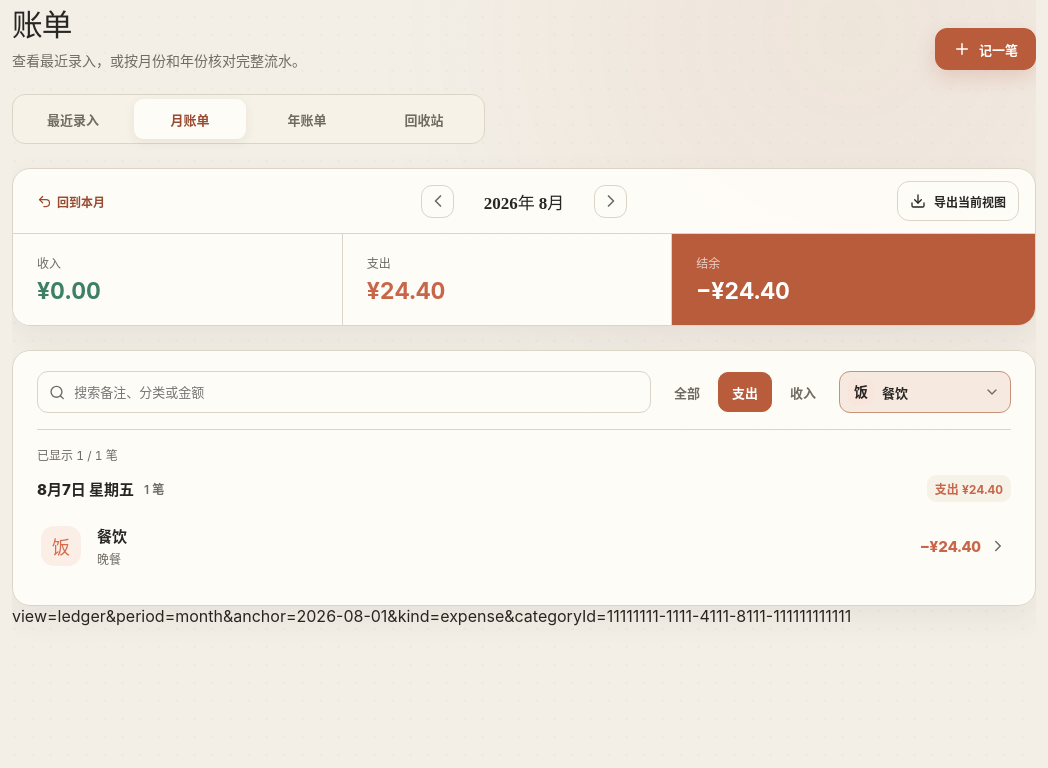
洞察与账单下钻 › 从账单 URL 初始化筛选，并在切换筛选时同步 URL
Expected: the heading "账单" is shown, x1=12 y1=9 x2=71 y2=43
What coordinates should you click on to do the following:
click the dropdown named "筛选分类"
I would click on:
 (925, 392)
Its box is x1=839 y1=371 x2=1011 y2=413.
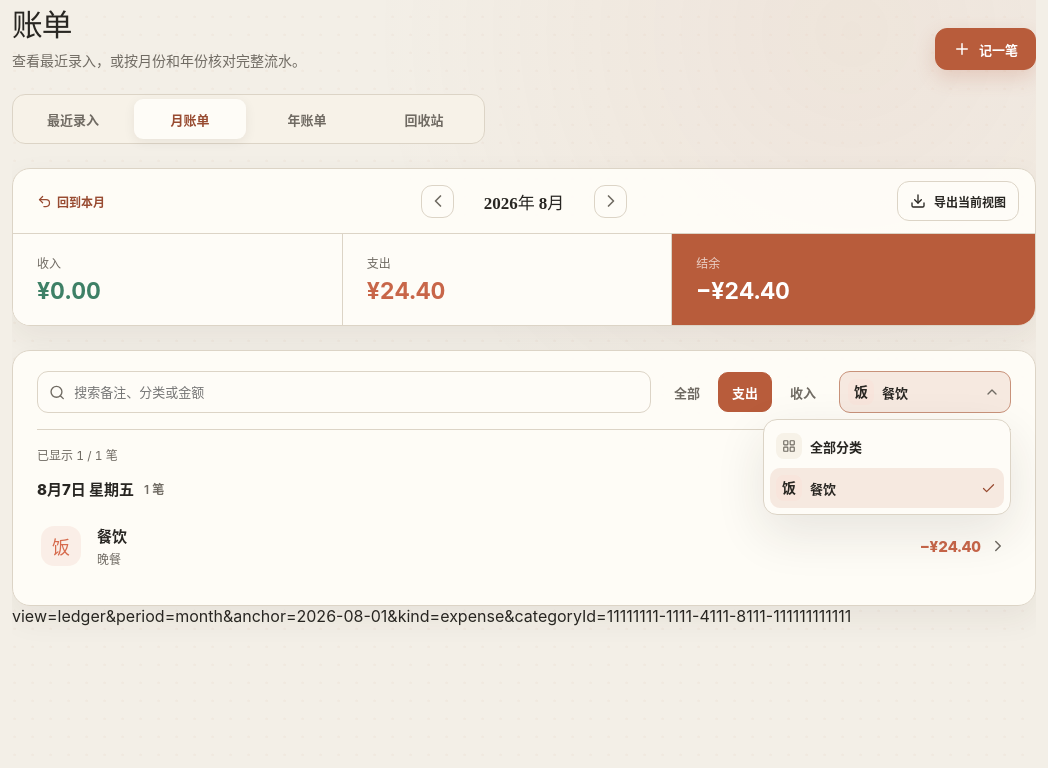
What coordinates should you click on to do the following:
click the option "全部分类"
I would click on:
 (887, 446)
Its box is x1=770 y1=426 x2=1004 y2=466.
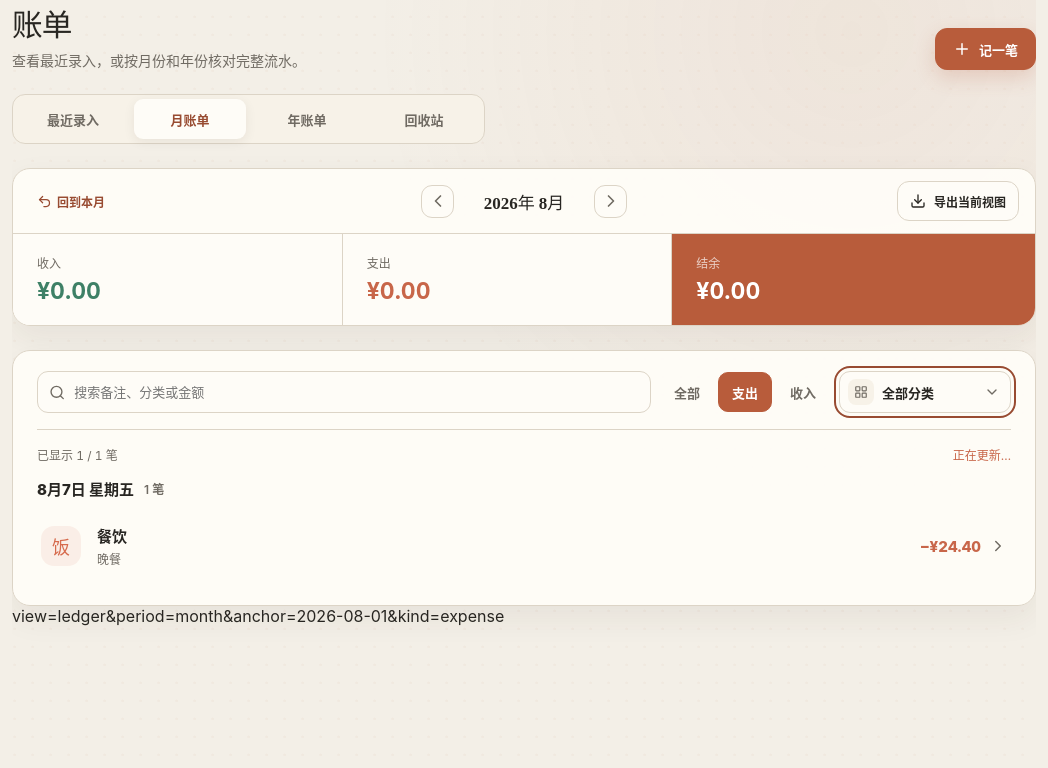
Expected: the text with test id "location-search" reads "view=ledger&period=month&anchor=2026-08-01&kind=expense", x1=12 y1=606 x2=504 y2=626
Expected: the dropdown named "筛选分类" reads "全部分类", x1=839 y1=371 x2=1011 y2=413
What coordinates should you click on to do the following:
click the button "收入"
I would click on:
 (803, 392)
Its box is x1=776 y1=372 x2=830 y2=412.
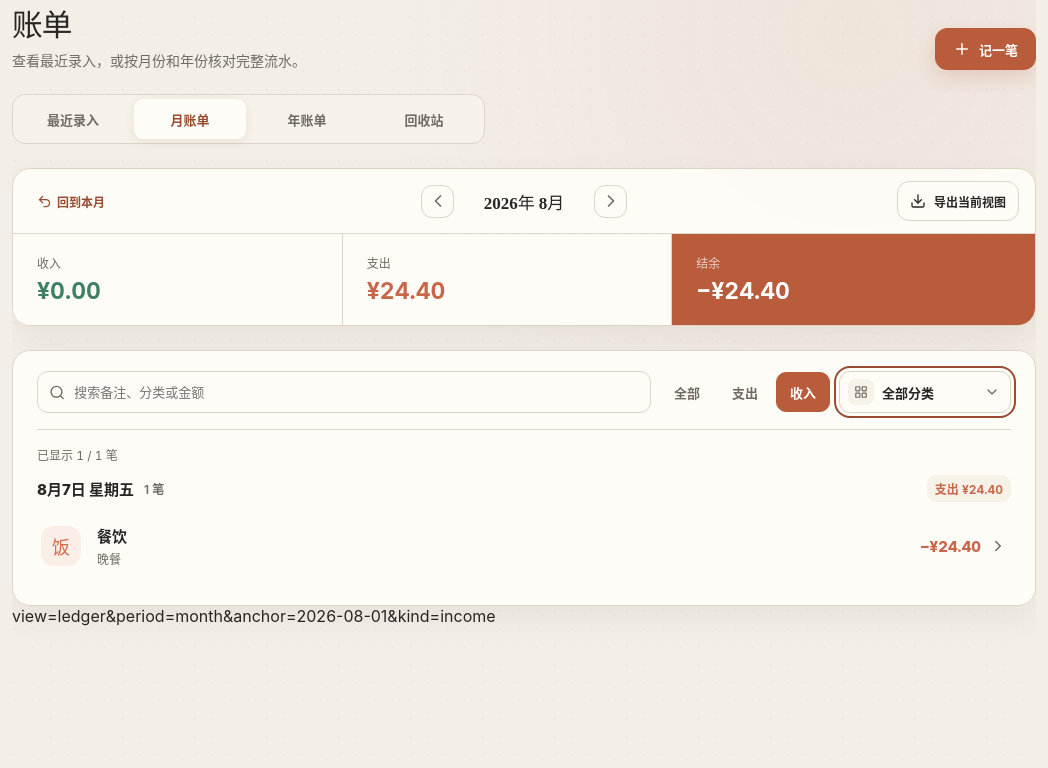
Expected: the text with test id "location-search" reads "view=ledger&period=month&anchor=2026-08-01&kind=income", x1=12 y1=606 x2=496 y2=626
